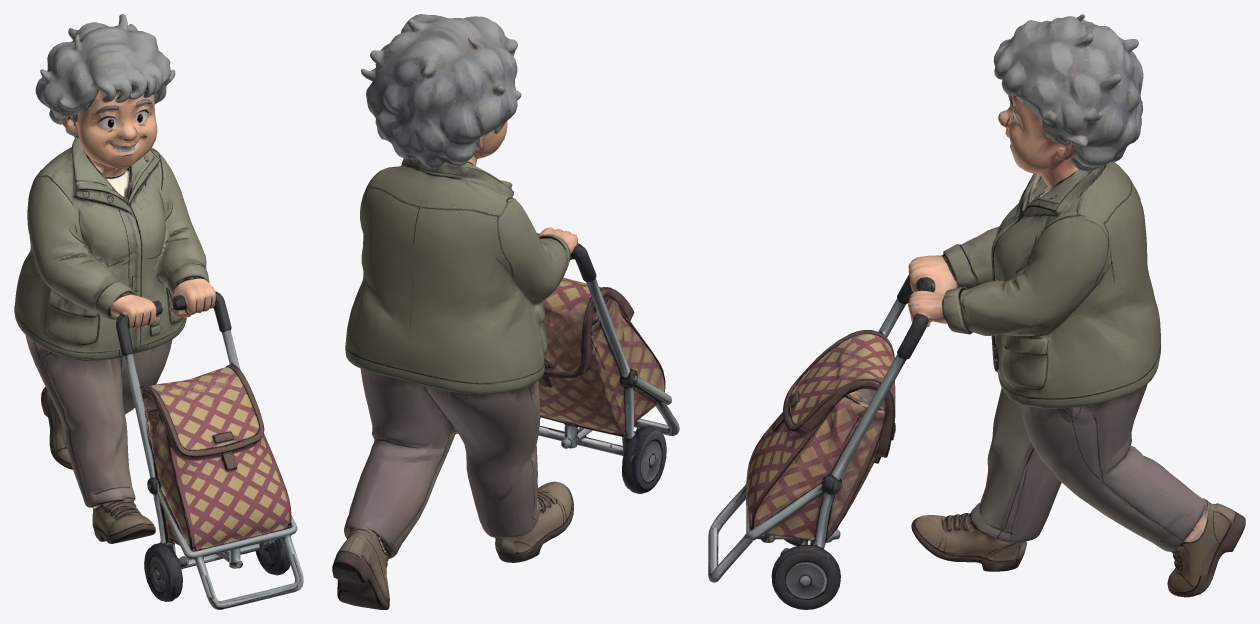
The model's file is getkong-ped8.glb.
The picture shows the model from 3 angles, left to right: view 1: azimuth 30°, elevation 25°; view 2: azimuth 150°, elevation 25°; view 3: azimuth 270°, elevation 25°; orthographic projection. The views are drawn at different scales.
Visible parts, largest first — view 1: Mesh_0; view 2: Mesh_0; view 3: Mesh_0.
Boxes of the visible parts, box(x1,y1,x2,y2) form: Mesh_0: box(14, 14, 303, 609); Mesh_0: box(332, 14, 679, 609); Mesh_0: box(708, 14, 1245, 609).
Bounding box in the file's own units: 0.6308 × 1.9 × 1.65.
1 material, 1 textured.
